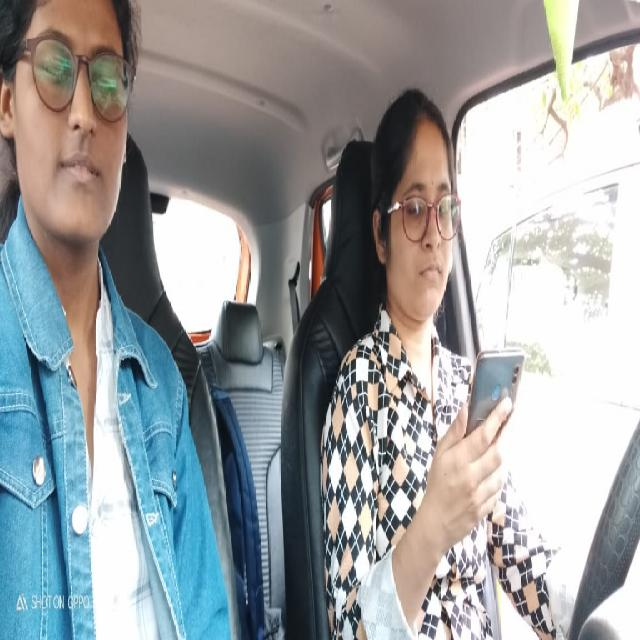mobile: (471, 337, 524, 445)
person: (0, 0, 151, 247), (366, 96, 465, 327)
